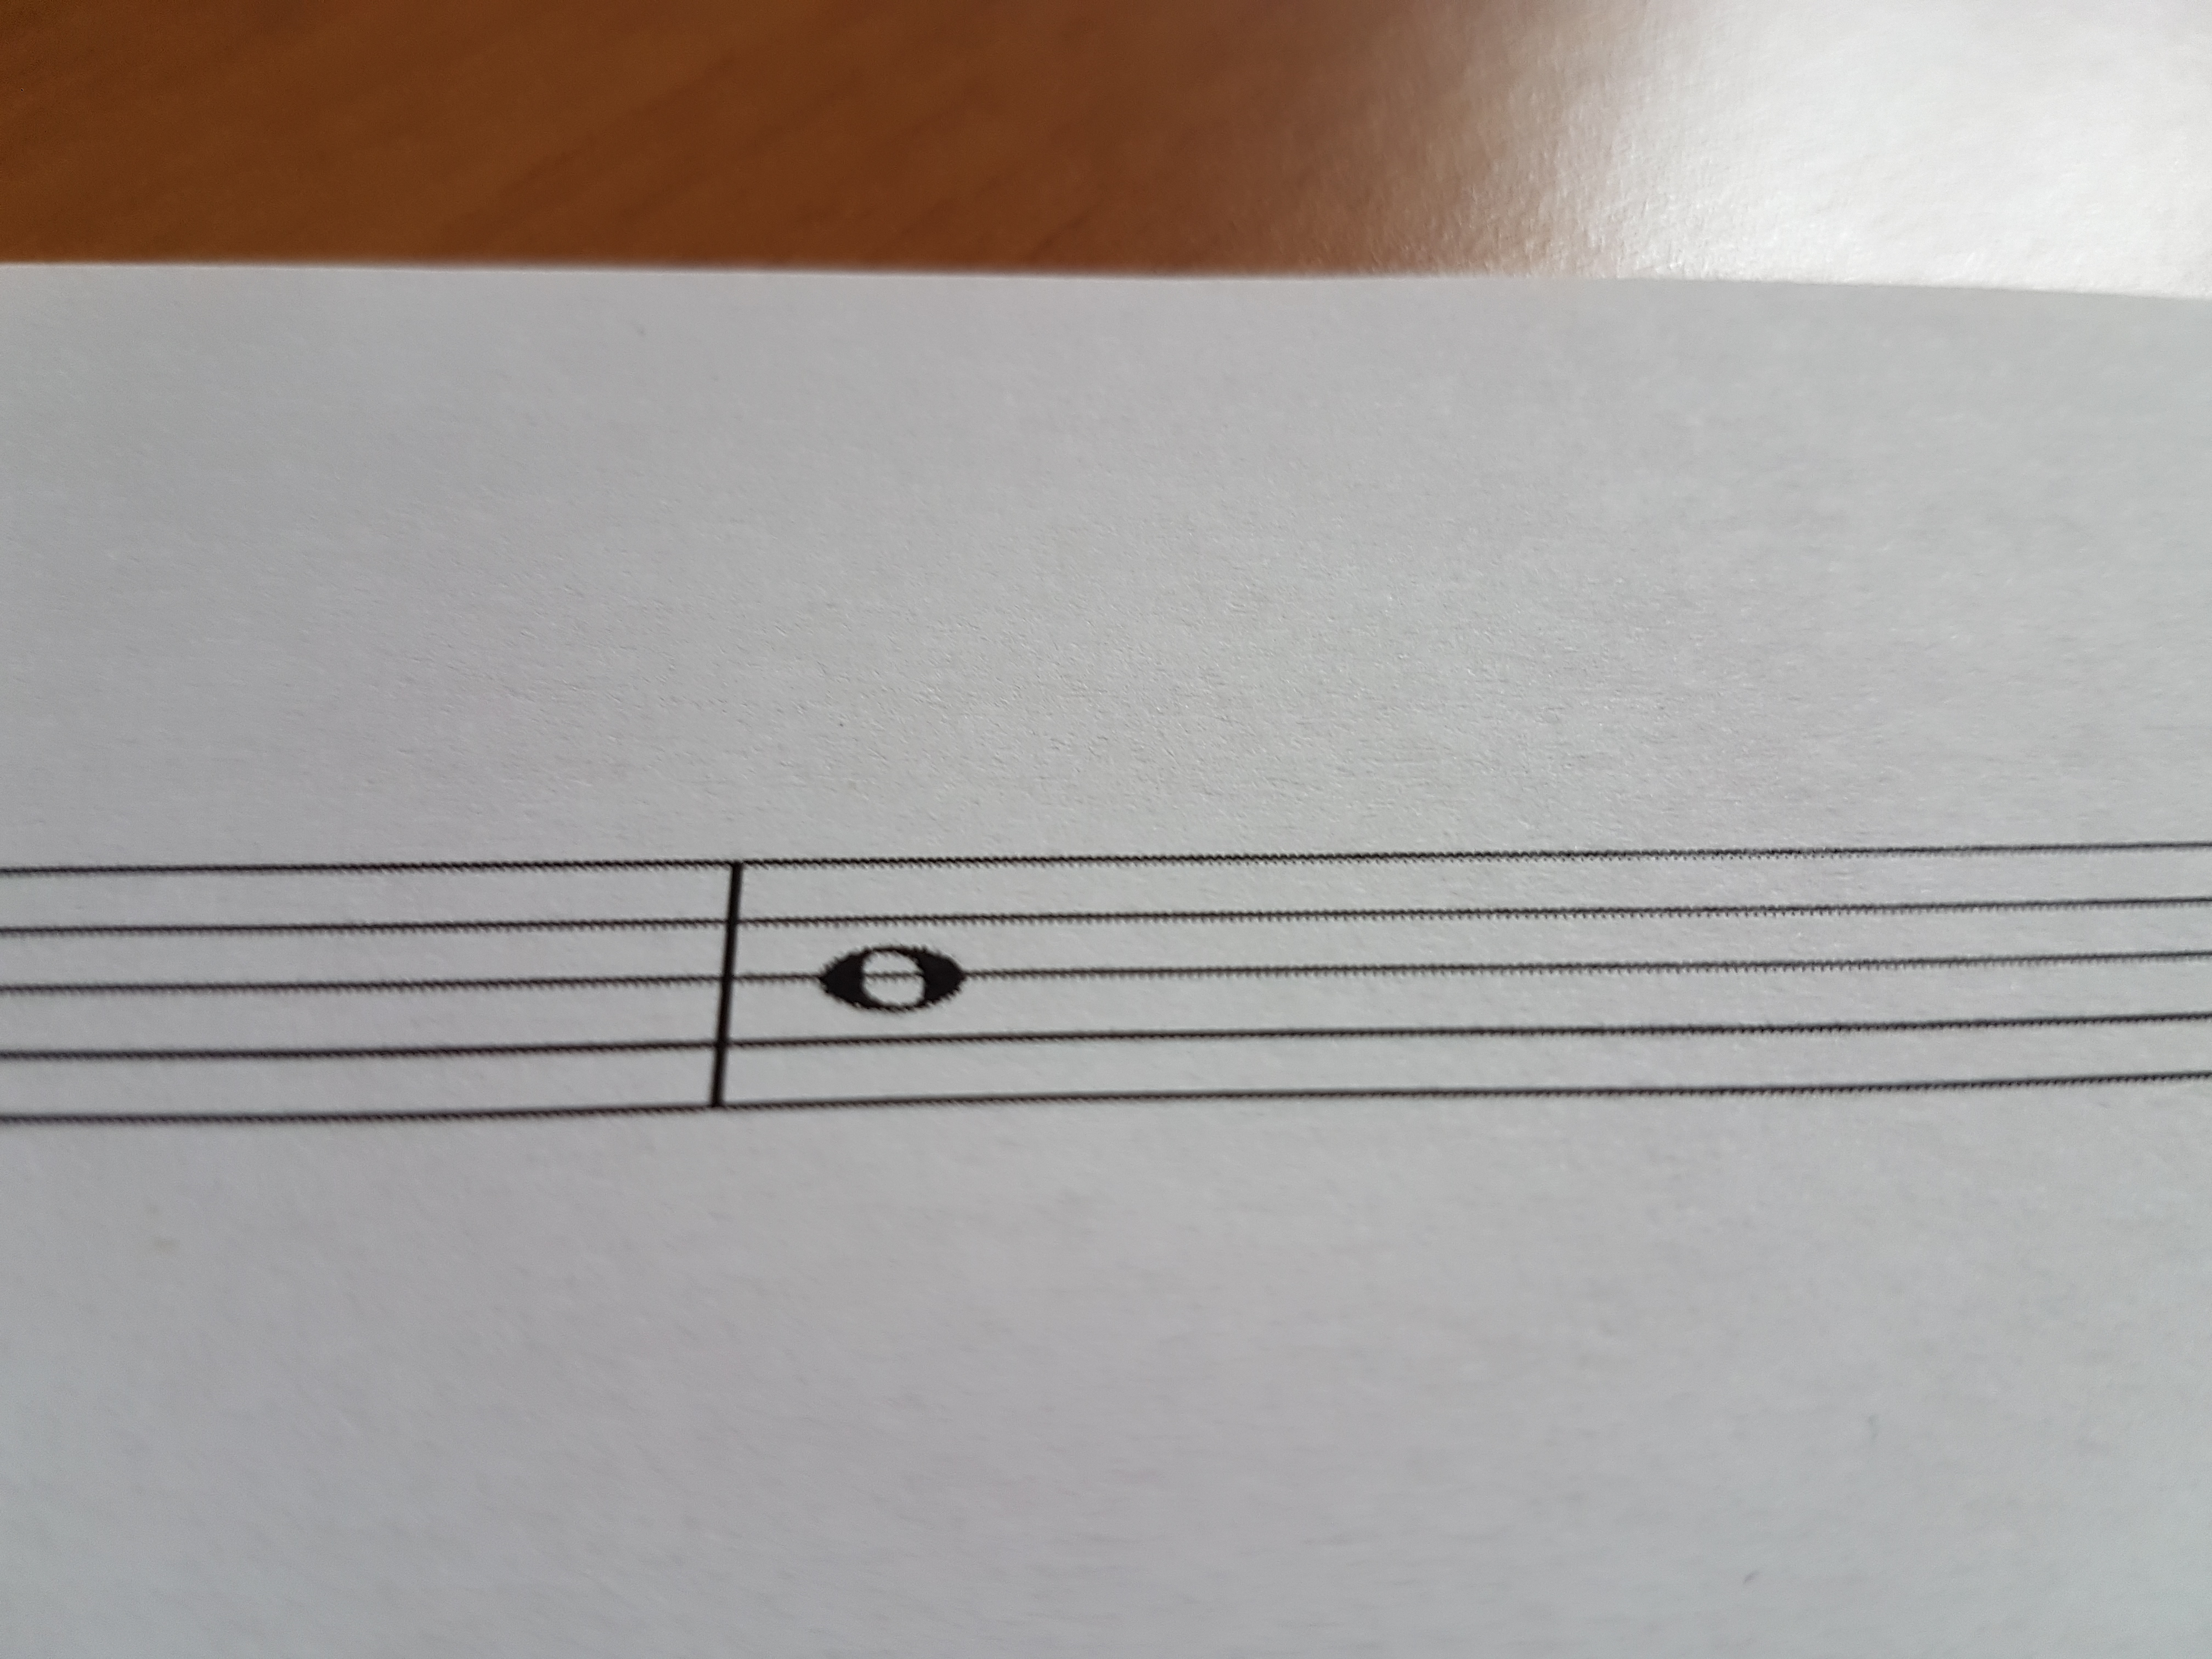pipe: (697, 847, 763, 1140)
semibreve_h: (794, 812, 991, 1176)
